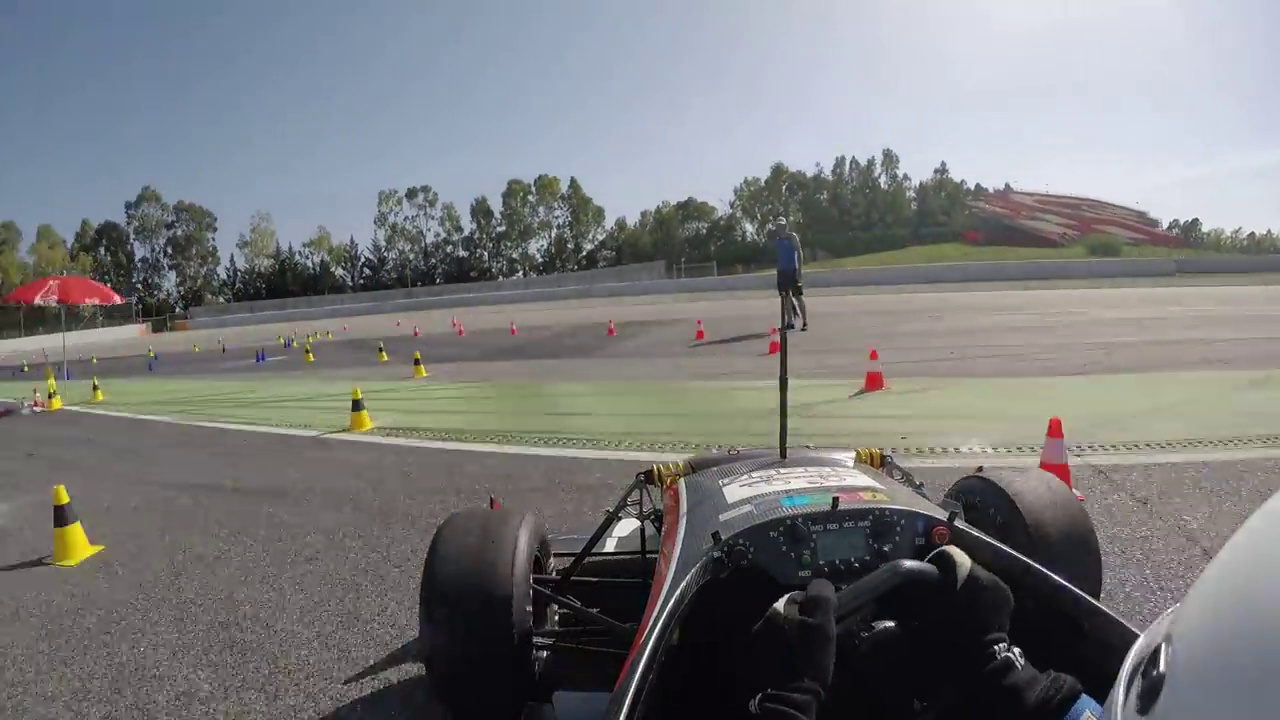Cone: (41, 482, 104, 566), (348, 388, 375, 434), (862, 350, 889, 391), (409, 347, 429, 377), (88, 376, 107, 407)
